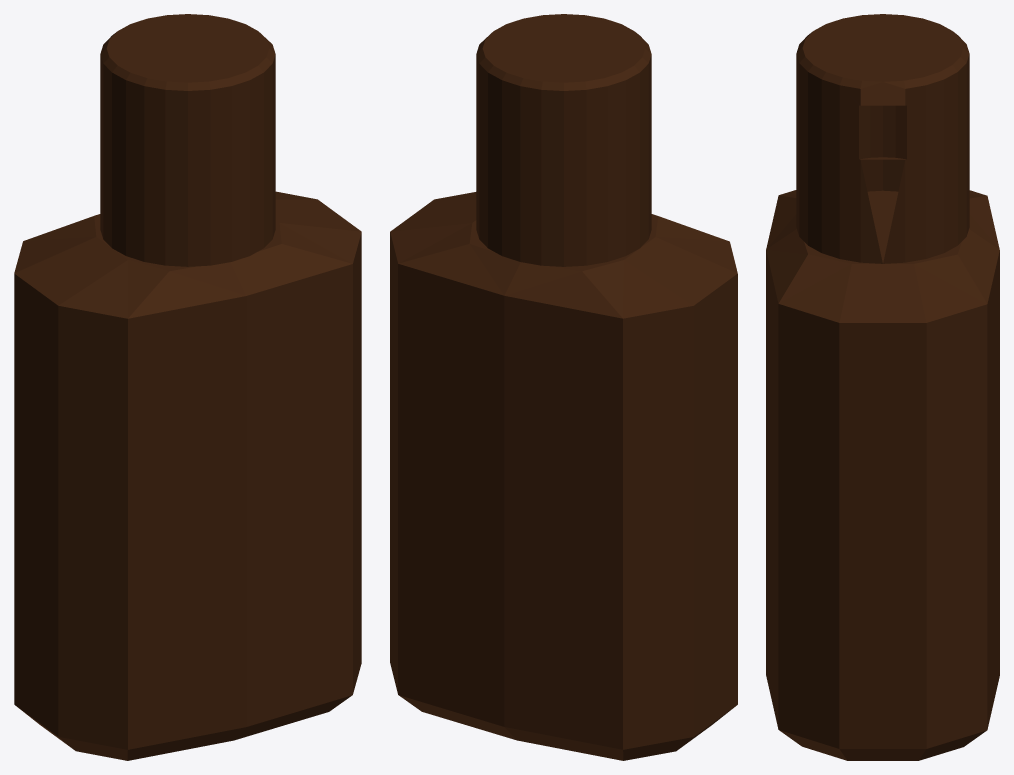
3 renders of one model, left to right at view 1: azimuth 30°, elevation 25°; view 2: azimuth 150°, elevation 25°; view 3: azimuth 270°, elevation 25°, orthographic.
Parts seen in each view (by area): view 1: mesh6_mesh6-geometry, mesh1.001_mesh1-geometry; view 2: mesh6_mesh6-geometry, mesh1.001_mesh1-geometry; view 3: mesh6_mesh6-geometry, mesh1.001_mesh1-geometry.
Part boxes in pixels (left/top/right/bottom): mesh6_mesh6-geometry: left=14, top=191, right=361, bottom=760; mesh1.001_mesh1-geometry: left=100, top=14, right=275, bottom=266; mesh6_mesh6-geometry: left=390, top=192, right=737, bottom=760; mesh1.001_mesh1-geometry: left=476, top=14, right=651, bottom=266; mesh6_mesh6-geometry: left=766, top=190, right=999, bottom=760; mesh1.001_mesh1-geometry: left=796, top=14, right=969, bottom=263.
Bounding box in the file's own units: 0.4172 × 0.8641 × 0.2814.
